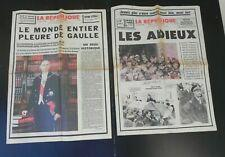paper: (6, 10, 112, 144), (112, 6, 217, 136)
